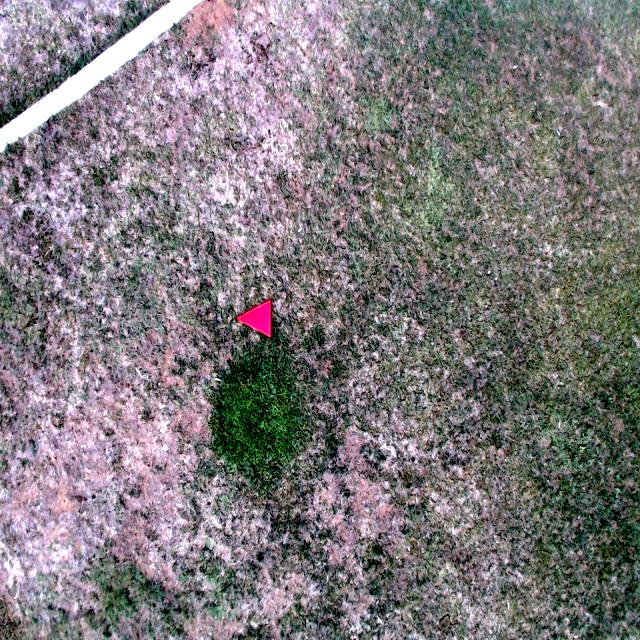red_triangle: (234, 298, 271, 338)
